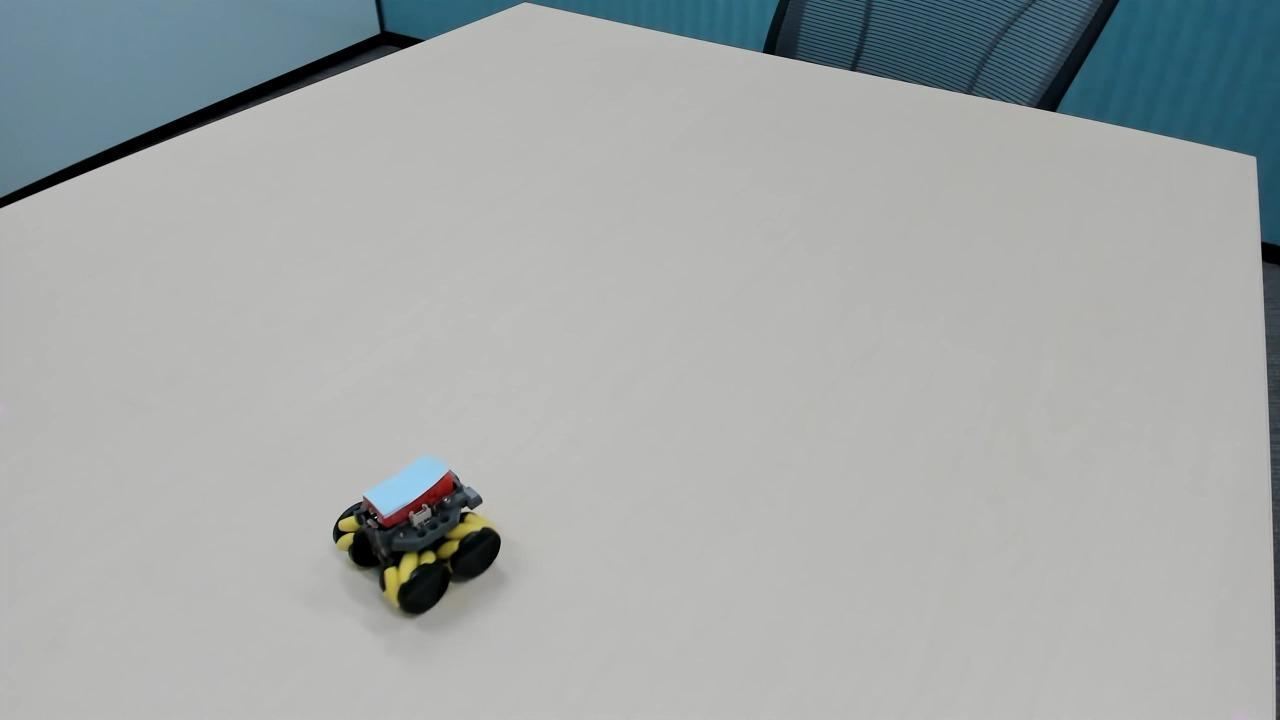B-Robot: (335, 450, 529, 634)
